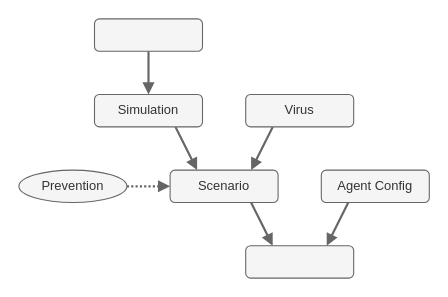
Image size: 448x297. Some labels were removed from this diagram. The box of each missing label's shape, as (x1, y1, x2, y2) in pixels:
Run: (245, 245, 354, 278)
Terrain: (93, 18, 202, 51)
